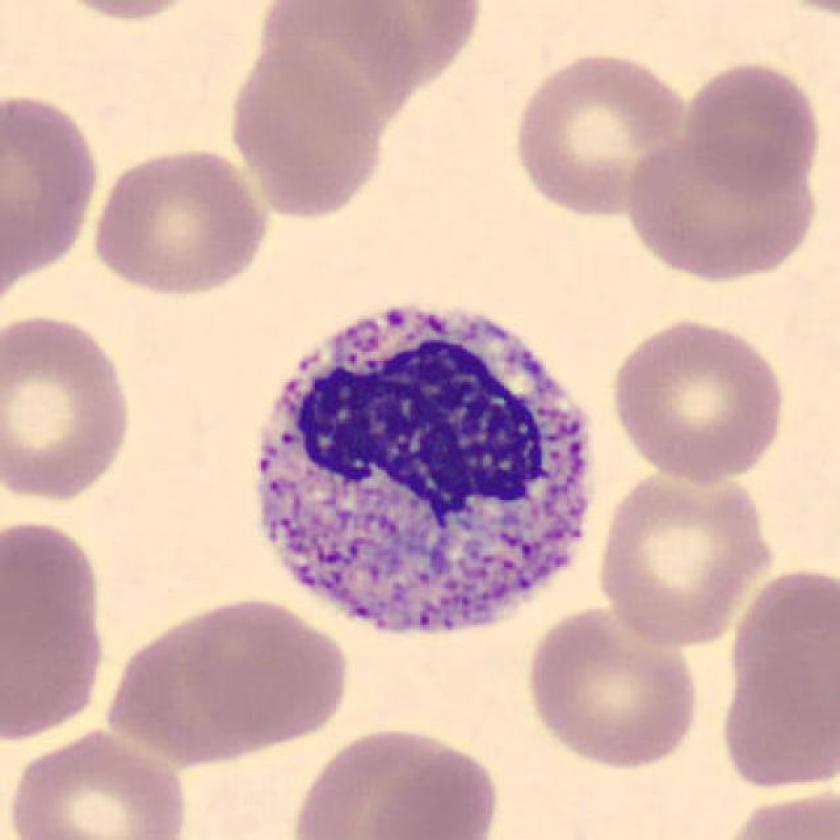neutrophil: (244, 302, 592, 636)
